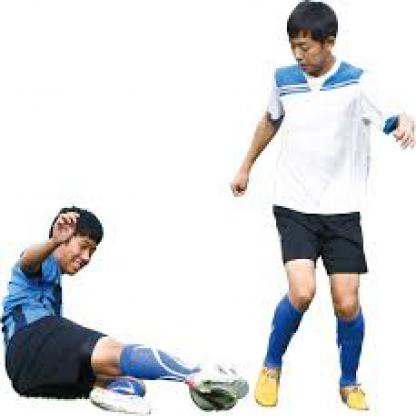Fall_Down: (0, 206, 253, 414)
